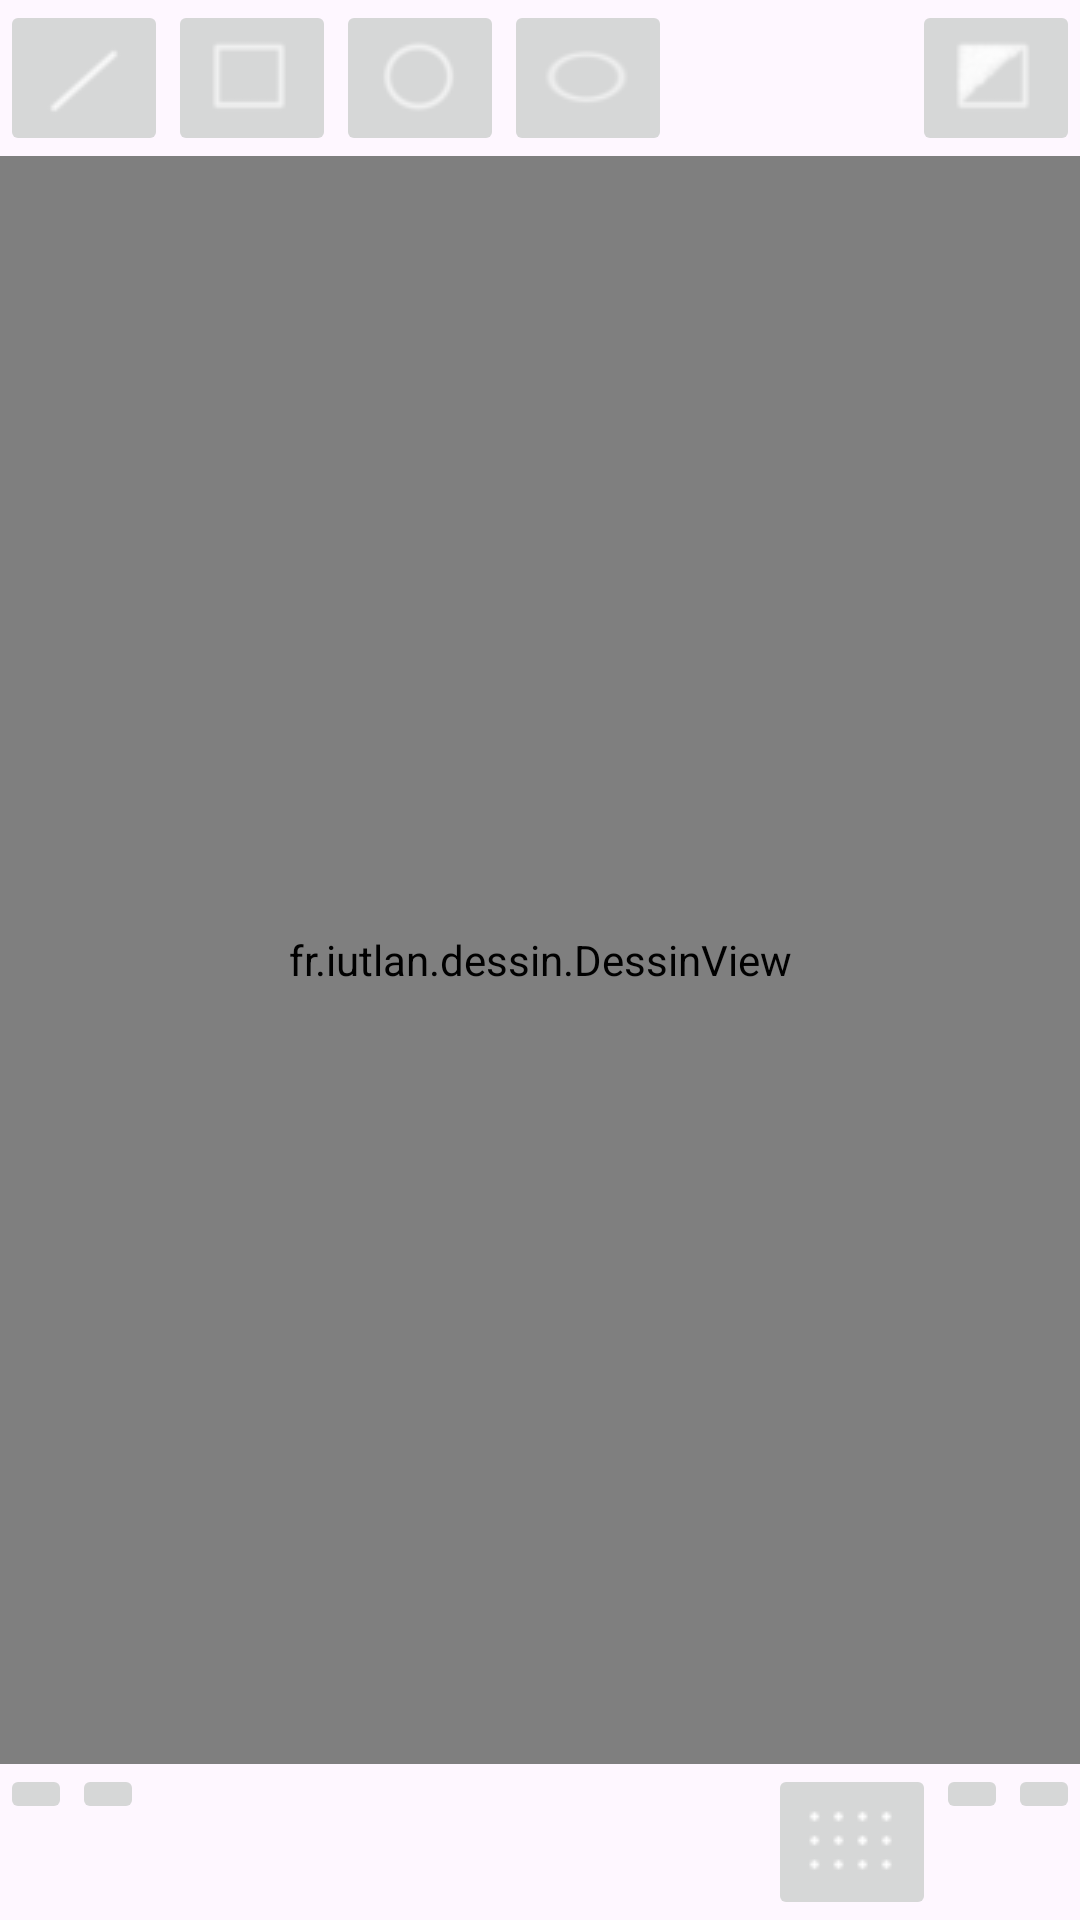

Icon bounding boxes for this 1080×1920 phone screenshot, format [x1,y1,x2,y2]:
circle: [348,18,492,138]
fill: [924,18,1068,138]
grid: [780,1782,924,1902]
line: [12,18,156,138]
